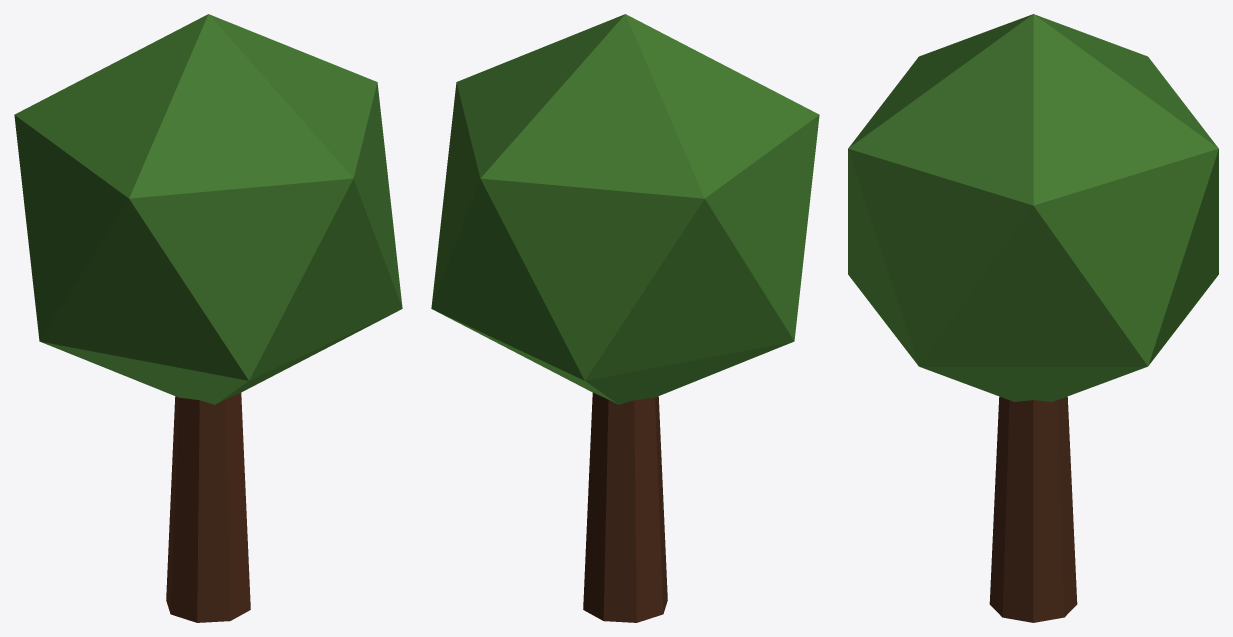
File: Tree1.fbx
3 views of the same model, side by side, from view 1: azimuth 30°, elevation 25°; view 2: azimuth 150°, elevation 25°; view 3: azimuth 270°, elevation 25° (orthographic).
Parts seen in each view (by area): view 1: Tree1; view 2: Tree1; view 3: Tree1.
Part boxes in pixels (<box>): Tree1: <box>14,14,402,622</box>; Tree1: <box>431,14,819,622</box>; Tree1: <box>848,14,1218,622</box>.
Bounding box in the file's own units: 574 × 959 × 546.
